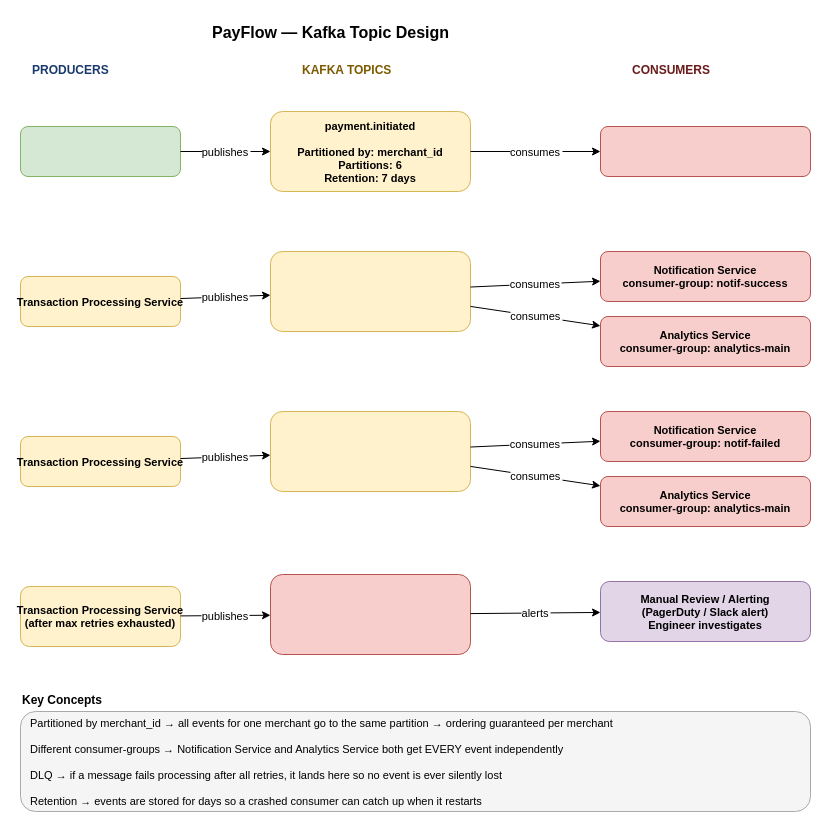
The diagram is 827 pixels wide and 828 high, and some of its shapes have lost their labels. Each missing label, with the centre of its shape:
Payment Service: the point at 100,151
payment.failed Partitioned by: merchant_id Partitions: 6 Retention: 30 days: the point at 370,451
payment.initiated.DLQ Dead Letter Queue Partitions: 1 Retention: 14 days: the point at 370,614
payment.succeeded Partitioned by: merchant_id Partitions: 6 Retention: 30 days: the point at 370,291
Transaction Processing Service consumer-group: txn-processors: the point at 705,151
